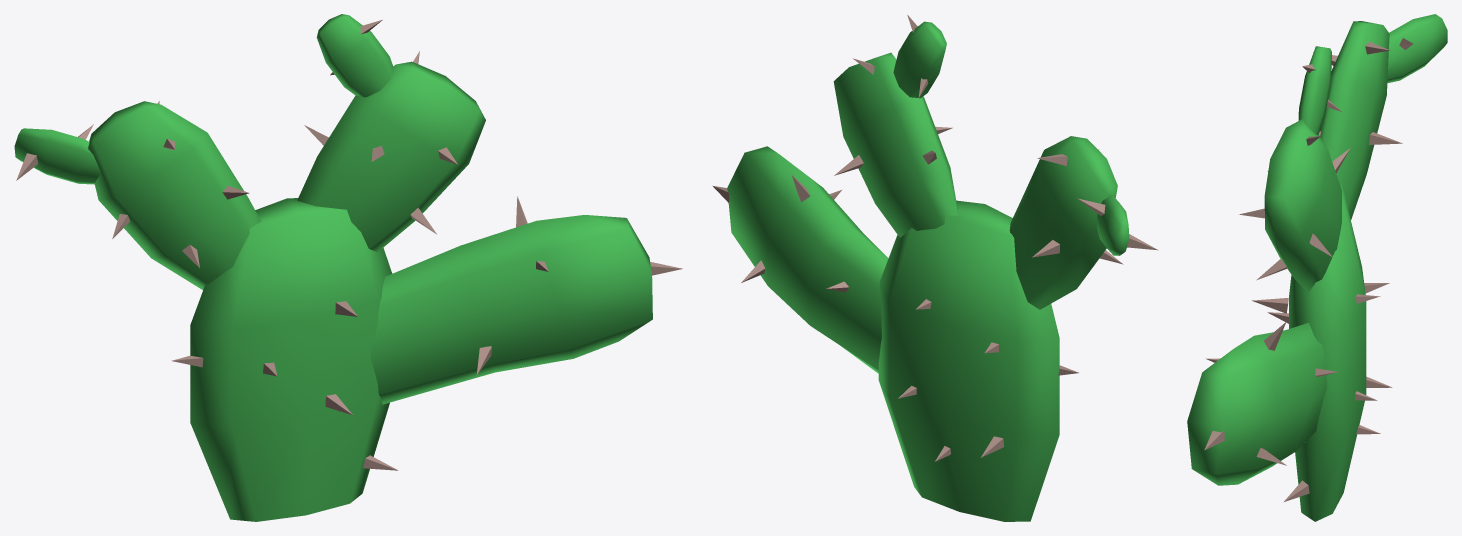
Rendered from Cactus9.fbx.
3 views of the same model, side by side, from view 1: azimuth 30°, elevation 25°; view 2: azimuth 150°, elevation 25°; view 3: azimuth 270°, elevation 25° (orthographic). The views are drawn at different scales.
Visible parts, largest first — view 1: Cactus9.001; view 2: Cactus9.001; view 3: Cactus9.001.
Part boxes in pixels (box(x1,y1,x2,y2)): Cactus9.001: box(14, 14, 682, 521); Cactus9.001: box(712, 15, 1158, 521); Cactus9.001: box(1187, 14, 1447, 521).
Bounding box in the file's own units: 0.5679 × 1.38 × 1.12.
